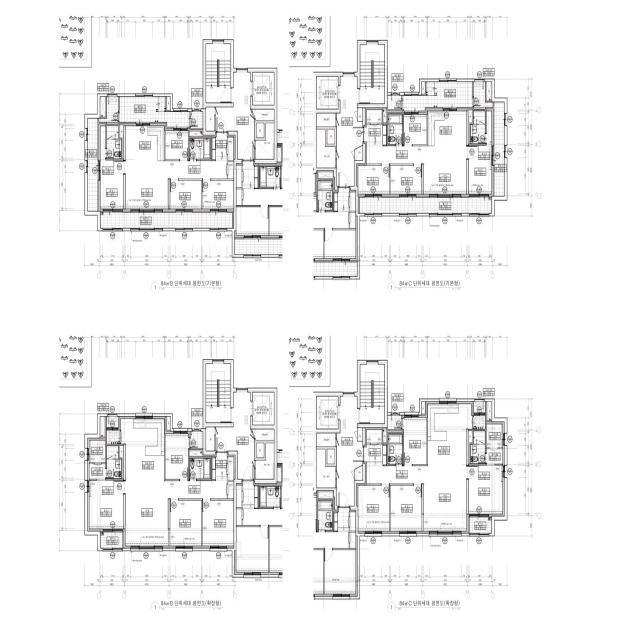space_balconi: (119, 97, 190, 127), (402, 82, 472, 111), (100, 213, 232, 228), (360, 198, 491, 213), (494, 102, 504, 196), (88, 119, 98, 211), (101, 532, 123, 548), (470, 518, 491, 533)
space_bedroom: (100, 126, 123, 209), (469, 111, 491, 194), (468, 465, 502, 514), (89, 481, 123, 529), (358, 485, 390, 531), (203, 500, 234, 546), (170, 501, 201, 546), (391, 486, 422, 531), (404, 418, 427, 464), (165, 434, 188, 479), (170, 181, 201, 209), (203, 181, 234, 209), (358, 166, 389, 194), (391, 166, 422, 194), (404, 115, 427, 145), (165, 131, 188, 160)
space_dressroom: (487, 424, 503, 464), (89, 441, 105, 479)
space_elevator: (316, 77, 338, 109), (253, 72, 274, 105), (253, 392, 274, 425), (317, 397, 338, 429)
space_elevator_hall: (215, 72, 255, 159), (216, 392, 254, 479), (337, 76, 363, 186), (337, 397, 363, 506)
space_front: (212, 133, 234, 160), (212, 453, 234, 480), (364, 444, 387, 466), (364, 125, 387, 146)
space_kitchen: (428, 404, 473, 465), (121, 419, 164, 481), (126, 126, 164, 161), (428, 111, 466, 146)
space_living_room: (125, 481, 234, 546), (367, 466, 467, 531), (125, 161, 234, 209), (367, 146, 467, 194)
space_other: (317, 449, 335, 488), (317, 130, 335, 168), (256, 123, 274, 159), (256, 443, 274, 479), (252, 429, 274, 440), (317, 114, 335, 127), (317, 433, 335, 446), (252, 110, 274, 120), (191, 112, 203, 129), (367, 110, 382, 123), (367, 430, 382, 443), (191, 432, 203, 448), (206, 427, 214, 451), (206, 108, 214, 131), (388, 415, 401, 429), (107, 430, 120, 444), (119, 445, 124, 479), (388, 96, 401, 109), (119, 126, 124, 159), (474, 416, 485, 429), (468, 111, 472, 144), (468, 431, 472, 464), (100, 97, 106, 117), (327, 449, 335, 464), (486, 82, 492, 101), (355, 146, 363, 160), (355, 466, 363, 480), (257, 123, 264, 138), (327, 129, 334, 144), (257, 443, 264, 458), (100, 417, 104, 437), (189, 131, 202, 137), (488, 402, 492, 420), (358, 108, 363, 121), (189, 451, 202, 456), (358, 428, 363, 441), (383, 109, 387, 123), (383, 429, 387, 443), (167, 97, 170, 110), (167, 417, 170, 430), (422, 82, 425, 94), (422, 402, 425, 414)
space_outdoor_room: (99, 97, 118, 122), (474, 82, 493, 107), (474, 402, 485, 413), (107, 417, 118, 427)
space_staircase: (206, 44, 231, 103), (360, 45, 385, 104), (206, 364, 231, 423), (360, 365, 384, 423)
space_toilet: (106, 126, 122, 159), (189, 138, 211, 159), (471, 111, 485, 144), (471, 431, 485, 464), (107, 446, 121, 478), (190, 458, 211, 479), (388, 114, 402, 144), (388, 434, 402, 464)
